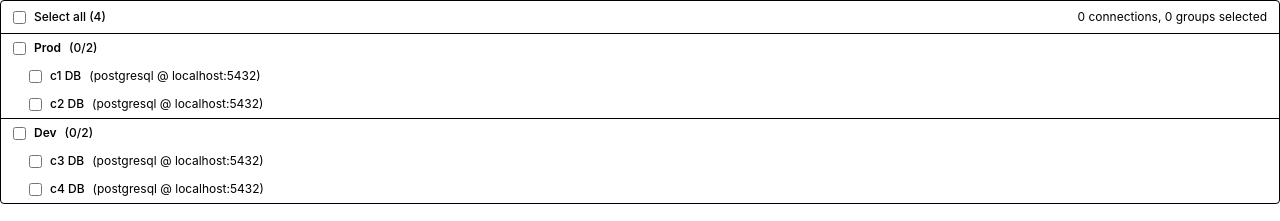
SelectionTree › scenario multi-conn: selecting connections from two groups indeterminates both groups
The width and height of the screenshot is (1280, 221).
Step 1. Click the checkbox labelled "c1 DB (postgresql @ localhost:5432)" → (36, 76), box [29,70,42,82]
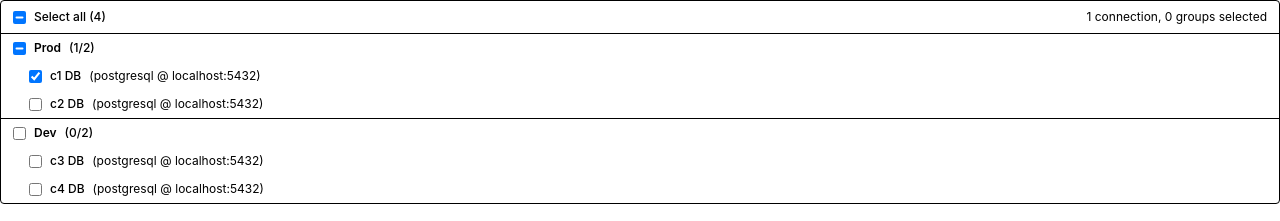
Step 2. Click the checkbox labelled "c3 DB (postgresql @ localhost:5432)" → (36, 161), box [29,154,42,168]
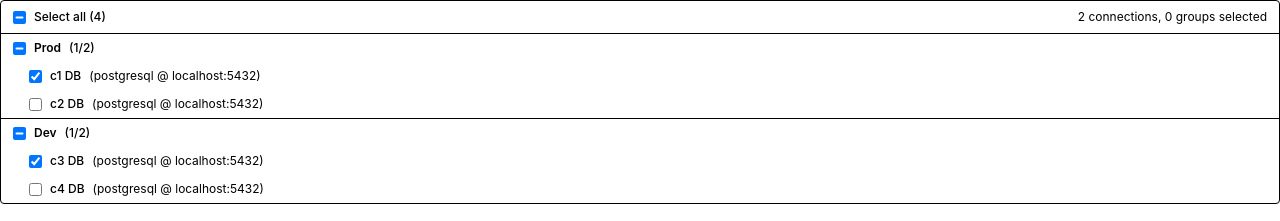
Check: the text "2 connections, 0 groups selected" is shown, box [1078,9,1267,25]
